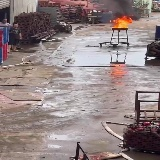fire: (109, 14, 132, 28)
